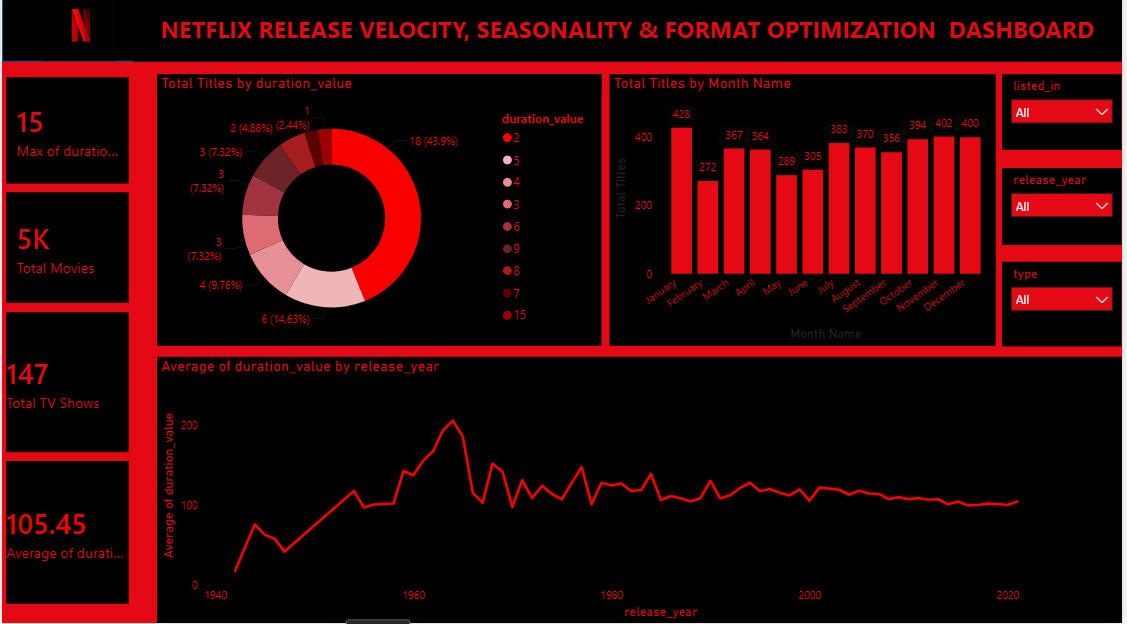

The dashboard page shown, as its layout file describes it:
{"tool":"powerbi","page":{"name":"Page 3","canvas":[1280,720],"ordinal":2},"visuals":[{"type":"shape","box":[0,0,1280,78.3],"z":0},{"type":"image","box":[0,0,176.7,78.3],"z":1000},{"type":"clusteredColumnChart","fields":{"Y":["netflix_titles.Total Titles"],"Category":["netflix_titles.Month Name"]},"box":[695,93.3,441.7,310],"z":2000},{"type":"lineChart","fields":{"Category":["netflix_titles.release_year"],"Y":["Avg(netflix_titles.duration_value)"]},"box":[176.7,415,1103.3,305],"z":3000},{"type":"donutChart","fields":{"Category":["netflix_titles.duration_value"],"Y":["netflix_titles.Total Titles"]},"box":[176.7,93.3,508.3,310],"z":4000},{"type":"slicer","fields":{"Values":["netflix_titles.listed_in"]},"box":[1143.3,93.3,136.7,86.7],"z":5000},{"type":"slicer","fields":{"Values":["netflix_titles.release_year"]},"box":[1143.3,200,136.7,88.3],"z":6000},{"type":"slicer","fields":{"Values":["netflix_titles.type"]},"box":[1143.3,306.7,136.7,96.7],"z":7000},{"type":"cardVisual","fields":{"Data":["netflix_titles.Total Movies"]},"box":[0,223.3,150,136.7],"z":8000},{"type":"cardVisual","fields":{"Data":["netflix_titles.Total TV Shows"]},"box":[0,360,150,170],"z":9000},{"type":"cardVisual","fields":{"Data":["Max(netflix_titles.duration_value)"]},"box":[0,91.7,150,131.7],"z":10000},{"type":"cardVisual","fields":{"Data":["Avg(netflix_titles.duration_value)"]},"box":[0,530,150,173.3],"z":11000},{"type":"textbox","box":[150,0,1130,78.6],"z":12000}]}

Visuals, with their boxes in screenshot pixels (x1, y1, x2, y2), scaled from the page's 1280x720 canvas onto the 1127x624 screenshot:
shape: bbox=(0, 0, 1126, 68)
image: bbox=(0, 0, 156, 68)
clusteredColumnChart - netflix_titles.Total Titles x netflix_titles.Month Name: bbox=(612, 81, 1001, 350)
lineChart - netflix_titles.release_year x Avg(netflix_titles.duration_value): bbox=(156, 360, 1126, 623)
donutChart - netflix_titles.duration_value x netflix_titles.Total Titles: bbox=(156, 81, 603, 350)
slicer - netflix_titles.listed_in: bbox=(1007, 81, 1126, 156)
slicer - netflix_titles.release_year: bbox=(1007, 173, 1126, 250)
slicer - netflix_titles.type: bbox=(1007, 266, 1126, 350)
cardVisual - netflix_titles.Total Movies: bbox=(0, 194, 132, 312)
cardVisual - netflix_titles.Total TV Shows: bbox=(0, 312, 132, 459)
cardVisual - Max(netflix_titles.duration_value): bbox=(0, 79, 132, 194)
cardVisual - Avg(netflix_titles.duration_value): bbox=(0, 459, 132, 610)
textbox: bbox=(132, 0, 1126, 68)
